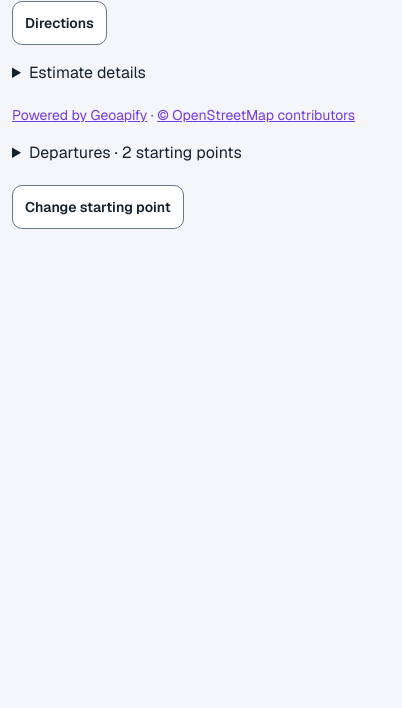
Test: Starting points for chosen people (#333) › lets the organizer start the hotel's people from the rental, and nobody else
Step 1. Click the heading "Departures · 2 starting points" → (135, 152), box [29, 142, 242, 163]
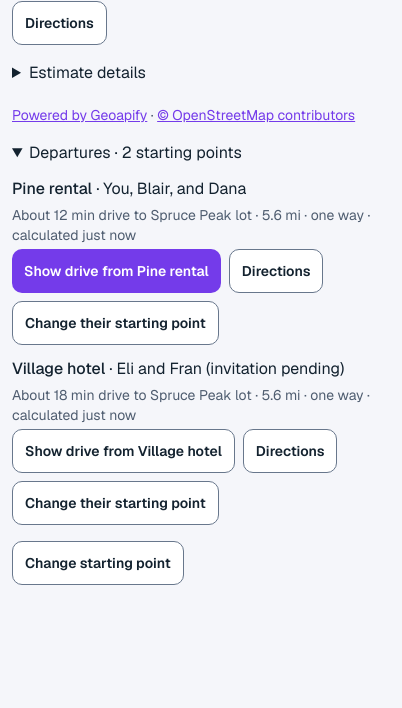
Step 2. Click the button "Change their starting point" below "Eli and Fran (invitation pending)" → (115, 503), box [12, 481, 219, 525]
(page scrolled)
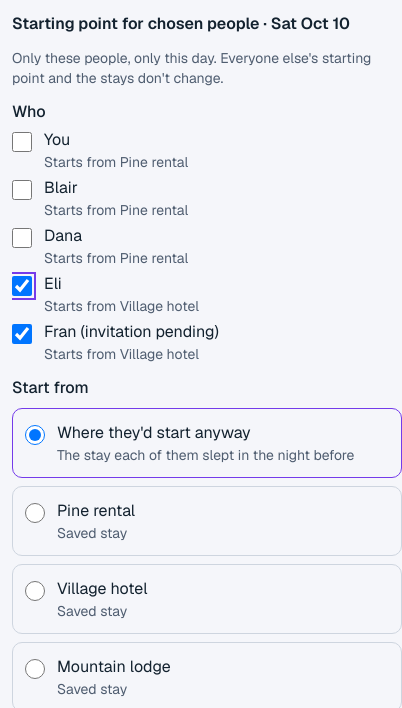
expect the checkbox labelled "You Starts from Pine rental" is not checked: met, box [12, 132, 32, 152]
Step 3. Click the checkbox labelled "Fran (invitation pending) Starts from Village hotel" → (22, 334), box [12, 324, 32, 344]
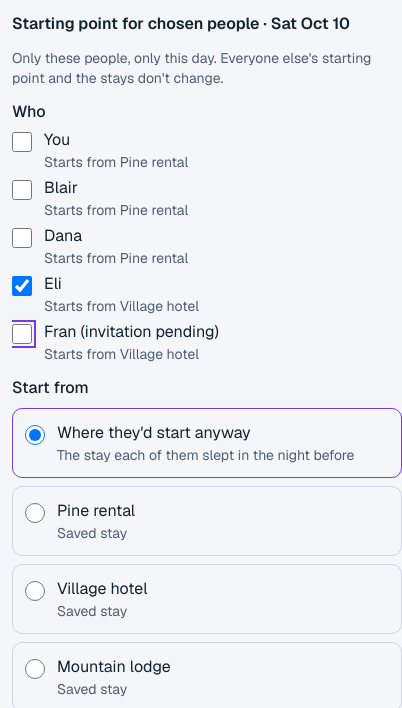
Step 4. Click the radio button labelled "Pine rental Saved stay" → (35, 513), box [25, 503, 45, 523]
(page scrolled)
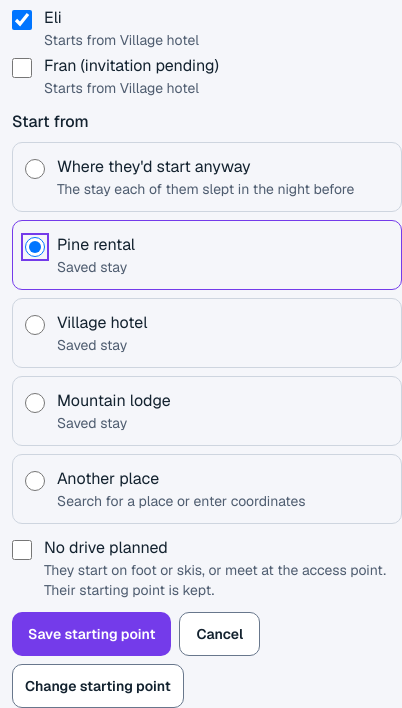
Step 5. Click the button "Save starting point" → (92, 634), box [12, 612, 172, 656]
(page scrolled)
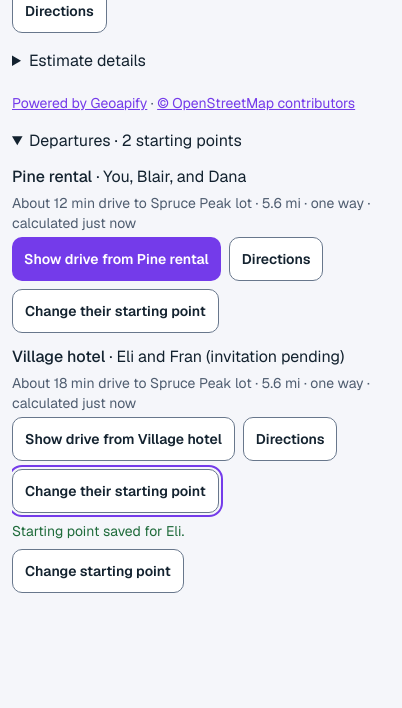
expect the text "Starting point saved for Eli." is shown: met, box [12, 522, 184, 540]
